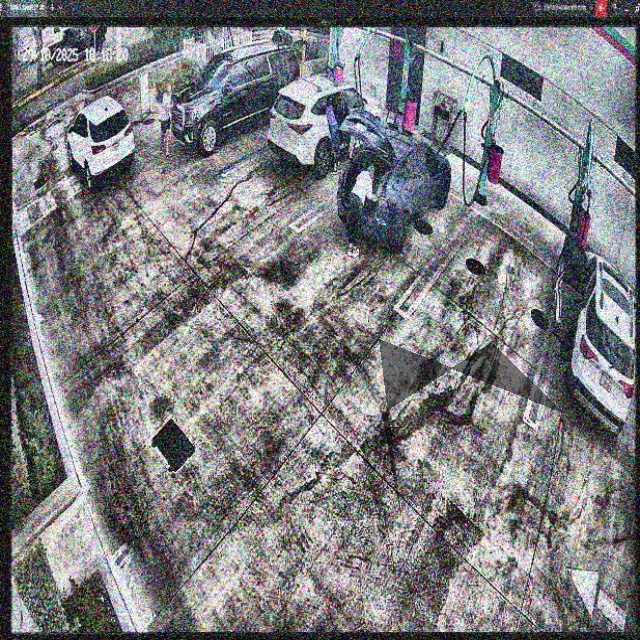Car: (336, 110, 452, 253), (169, 44, 300, 156), (268, 75, 383, 174), (67, 97, 135, 190)
